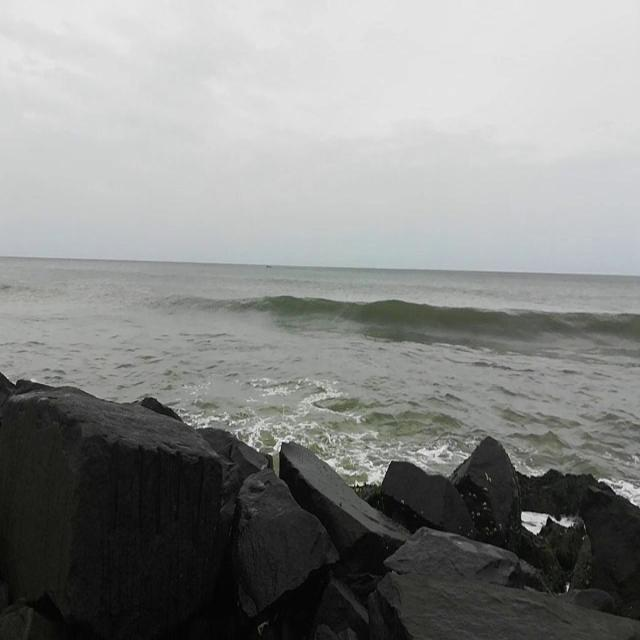other: (250, 367, 432, 470)
